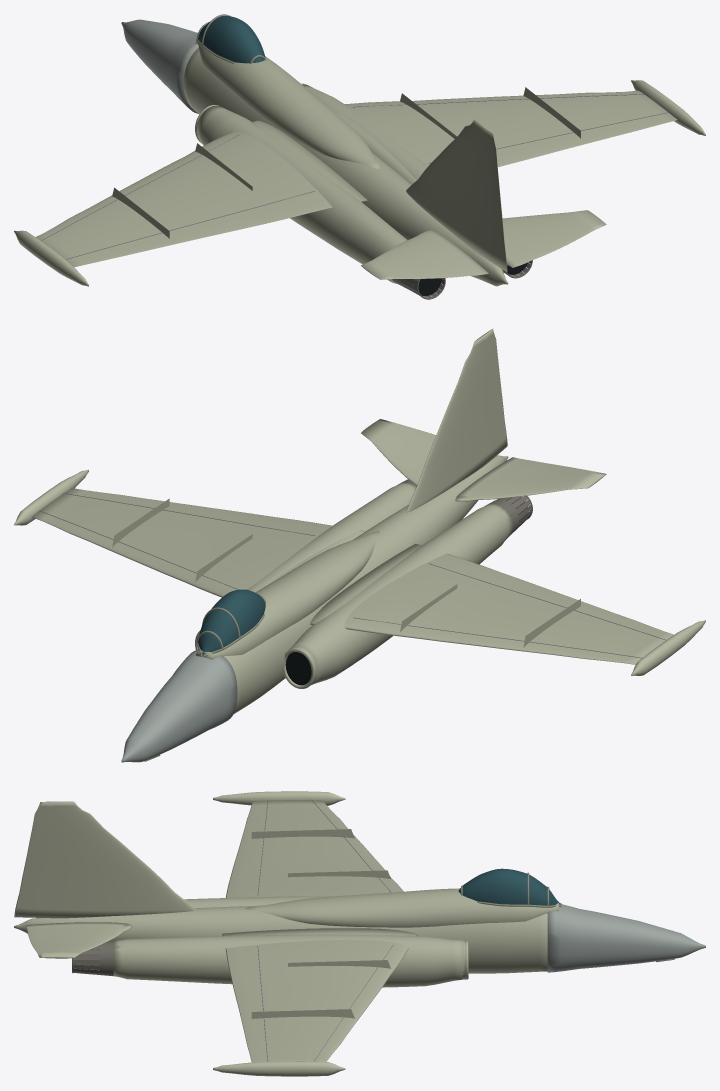
3 views of the same model, one above another, from view 1: azimuth 30°, elevation 25°; view 2: azimuth 150°, elevation 25°; view 3: azimuth 270°, elevation 25° (orthographic). The views are drawn at different scales.
Parts seen in each view (by area): view 1: static.Su-25T satin paint, static.Light control panels.004, static.Dielectric nose.004, static.Tinted canopy.004, static.Restrained panel seam.004, static.Heat-darkened exhaust metal.004, static.Deep recess.004; view 2: static.Su-25T satin paint, static.Light control panels.004, static.Dielectric nose.004, static.Tinted canopy.004, static.Restrained panel seam.004, static.Heat-darkened exhaust metal.004, static.Deep recess.004; view 3: static.Su-25T satin paint, static.Dielectric nose.004, static.Light control panels.004, static.Tinted canopy.004, static.Heat-darkened exhaust metal.004, static.Restrained panel seam.004.
Boxes of the visible parts, x1,y1,x2,y2 form: static.Su-25T satin paint: (35,39,677,286); static.Light control panels.004: (14,80,705,286); static.Dielectric nose.004: (121,19,198,113); static.Tinted canopy.004: (198,16,265,63); static.Restrained panel seam.004: (41,94,668,259); static.Heat-darkened exhaust metal.004: (393,260,532,299); static.Deep recess.004: (415,262,527,295); static.Su-25T satin paint: (32,328,673,713); static.Light control panels.004: (14,419,705,688); static.Dielectric nose.004: (121,649,237,762); static.Tinted canopy.004: (145,589,265,760); static.Restrained panel seam.004: (39,493,665,658); static.Heat-darkened exhaust metal.004: (400,479,532,534); static.Deep recess.004: (285,497,528,685); static.Su-25T satin paint: (14,800,558,1062); static.Dielectric nose.004: (547,904,705,972); static.Light control panels.004: (26,791,468,1076); static.Tinted canopy.004: (458,868,560,905); static.Heat-darkened exhaust metal.004: (72,941,113,976); static.Restrained panel seam.004: (257,799,393,1061).
Size of the model in its own units: 14.4 by 4.13 by 15.3.
